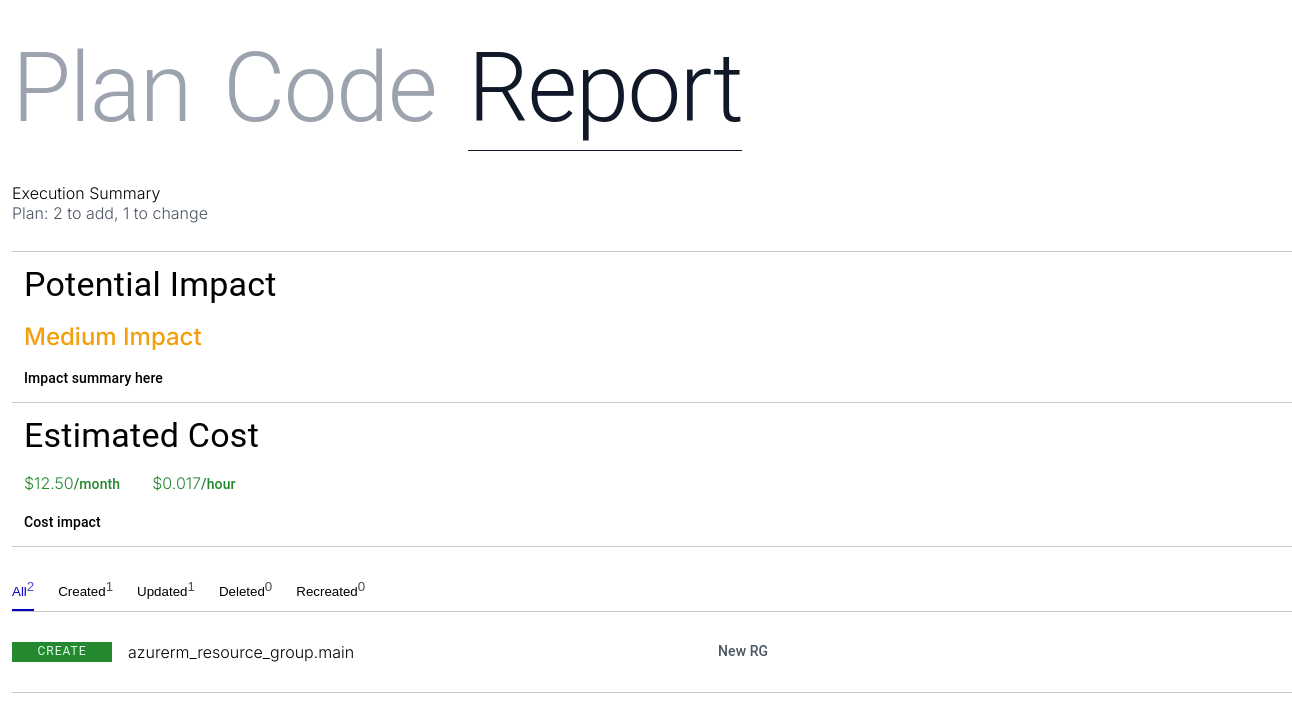
it: ResultPanel › closes detail on Escape key
Click the heading "Medium Impact" at (113, 336), box [24,322,202,351]
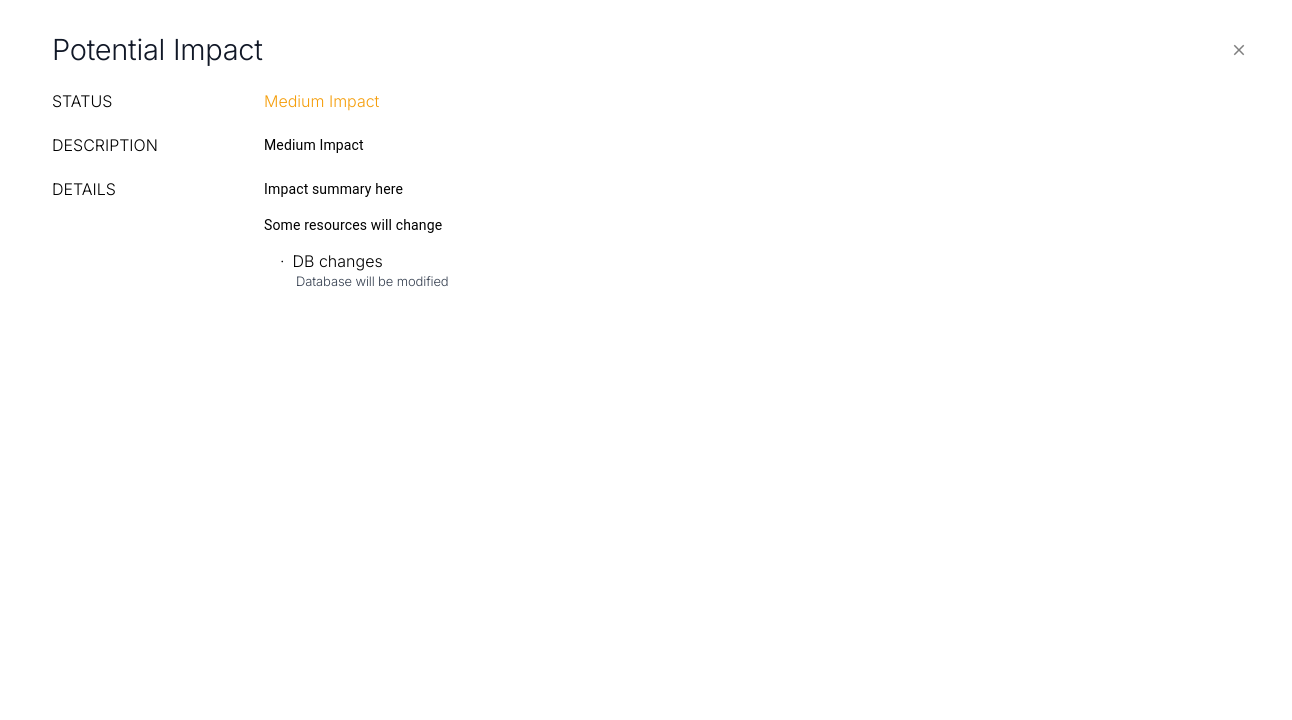
expect the text "DB changes" is shown: met, box [292,251,383,271]
Press Escape
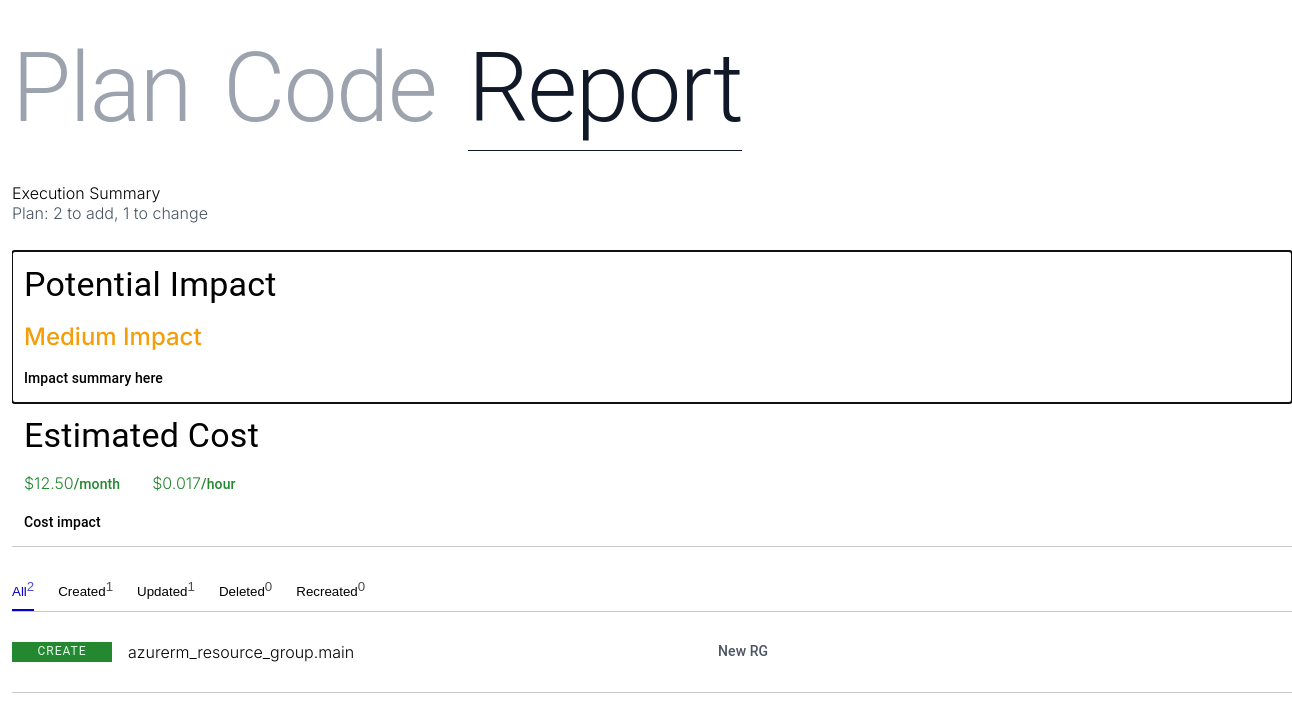
expect the text "DB changes" is gone: met
